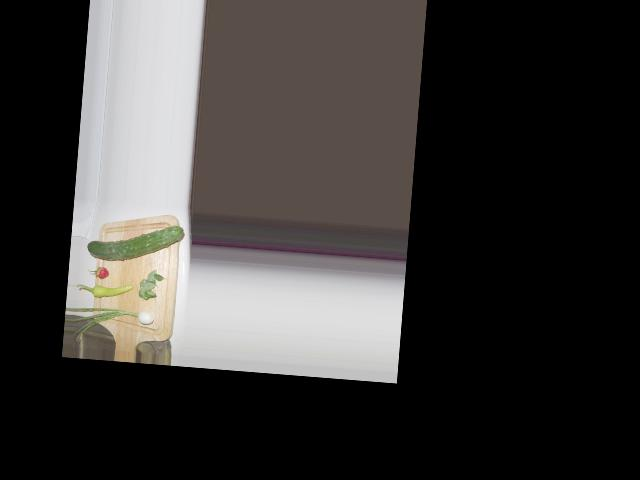cucumber: (87, 218, 184, 265)
